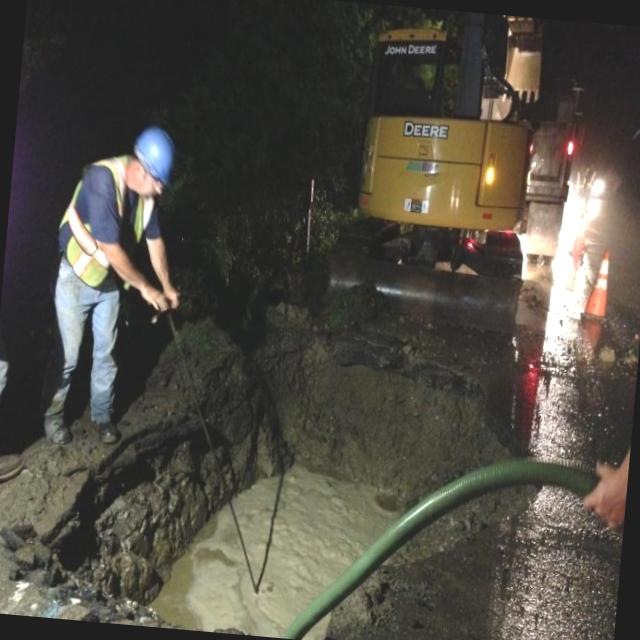helmet: (116, 127, 172, 205)
